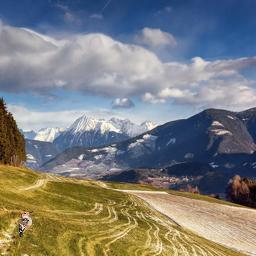Woodpecker: (18, 211, 34, 238)
